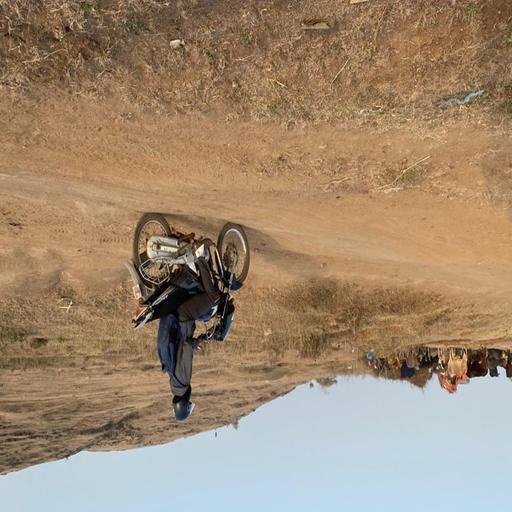vehicle_track: (0, 138, 512, 296)
